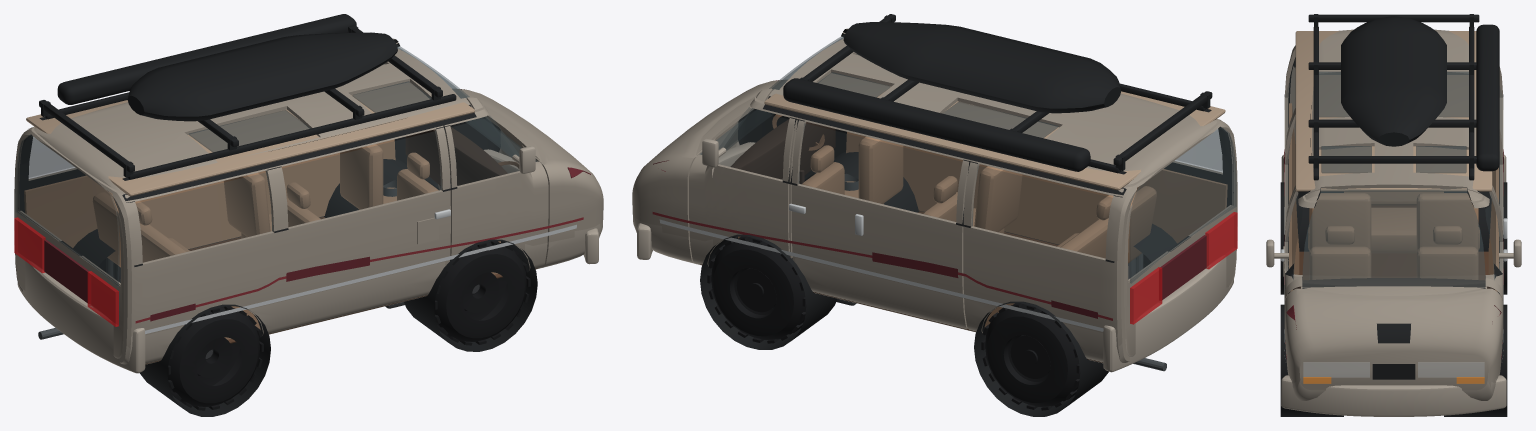
File: royale.glb
3 renders of one model, left to right at view 1: azimuth 30°, elevation 25°; view 2: azimuth 150°, elevation 25°; view 3: azimuth 270°, elevation 25°, orthographic. The views are drawn at different scales.
Visible parts, largest first — view 1: BODY_SHELL, CARGO_BOX, ROOF_SHELL, INTERIOR_LEFT, HEADLINER, SIDE_GLASS_MID_R, REAR_GLASS, SIDE_GLASS_REAR_R, FRONT_CLIP, DRIVER_DOOR, WHEEL_FR, WHEEL_RR (+23 smaller); view 2: BODY_SHELL, SLIDING_DOOR, CARGO_BOX, ROOF_SHELL, INTERIOR_RIGHT, SIDE_GLASS_MID_L, REAR_GLASS, SIDE_GLASS_REAR_L, FRONT_CLIP, PASSENGER_DOOR, AWNING, WHEEL_FL (+24 smaller); view 3: FRONT_CLIP, WINDSHIELD, CARGO_BOX, HEADLINER, ROOF_SHELL, FRONT_BUMPER, ROOF_RACK, WHEEL_WELL_LINERS, AWNING, BODY_SHELL, REAR_BENCH_OR_BED, REAR_SEAT_01 (+24 smaller).
Boxes of the visible parts, x1,y1,x2,y2 form: BODY_SHELL: (14,38,541,364); CARGO_BOX: (127,32,397,121); ROOF_SHELL: (34,49,472,190); INTERIOR_LEFT: (24,139,395,249); HEADLINER: (26,64,474,196); SIDE_GLASS_MID_R: (282,131,441,226); REAR_GLASS: (15,135,119,286); SIDE_GLASS_REAR_R: (136,172,273,262); FRONT_CLIP: (438,89,603,267); DRIVER_DOOR: (443,105,548,270); WHEEL_FR: (434,241,530,345); WHEEL_RR: (167,306,263,410); BODY_SHELL: (696,28,1237,363); SLIDING_DOOR: (791,118,970,330); CARGO_BOX: (843,22,1121,113); ROOF_SHELL: (767,39,1216,184); INTERIOR_RIGHT: (846,132,1227,244); SIDE_GLASS_MID_L: (798,123,962,221); REAR_GLASS: (1129,127,1236,283); SIDE_GLASS_REAR_L: (971,166,1112,257); FRONT_CLIP: (632,80,799,263); PASSENGER_DOOR: (689,96,796,266); AWNING: (783,78,1090,171); WHEEL_FL: (707,236,806,343); FRONT_CLIP: (1284,288,1503,400); WINDSHIELD: (1302,189,1485,288); CARGO_BOX: (1341,16,1446,146); HEADLINER: (1295,31,1492,191); ROOF_SHELL: (1307,29,1480,193); FRONT_BUMPER: (1281,375,1506,416); ROOF_RACK: (1308,14,1479,180); WHEEL_WELL_LINERS: (1280,182,1507,416); AWNING: (1476,24,1499,171); BODY_SHELL: (1284,45,1503,295); REAR_BENCH_OR_BED: (1308,191,1479,253); REAR_SEAT_01: (1416,193,1478,251).
Bounding box in the file's own units: 4.17 × 2.31 × 1.97.
